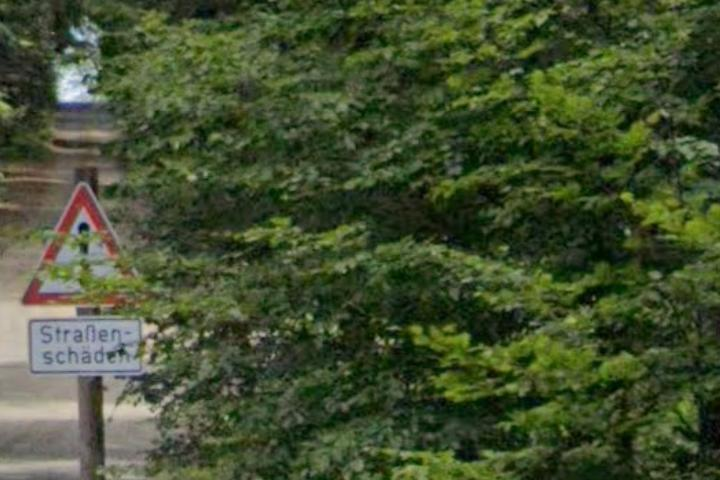traffic_sign: (16, 180, 151, 311)
